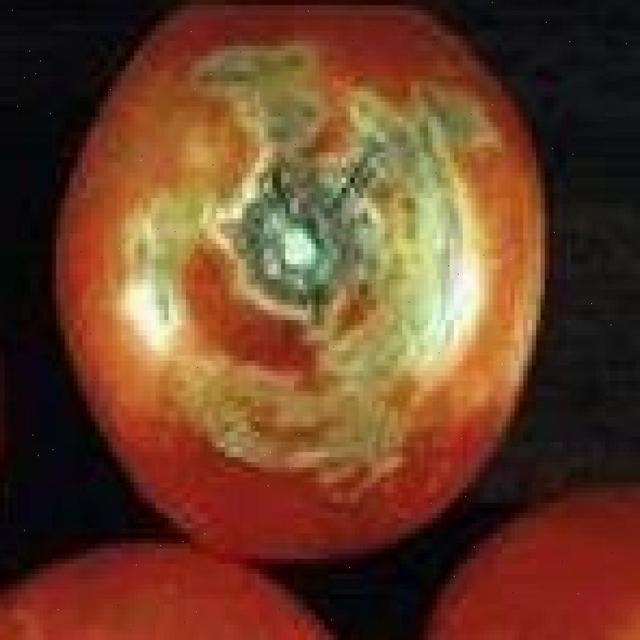Cracking Fruit: (89, 8, 342, 326)
